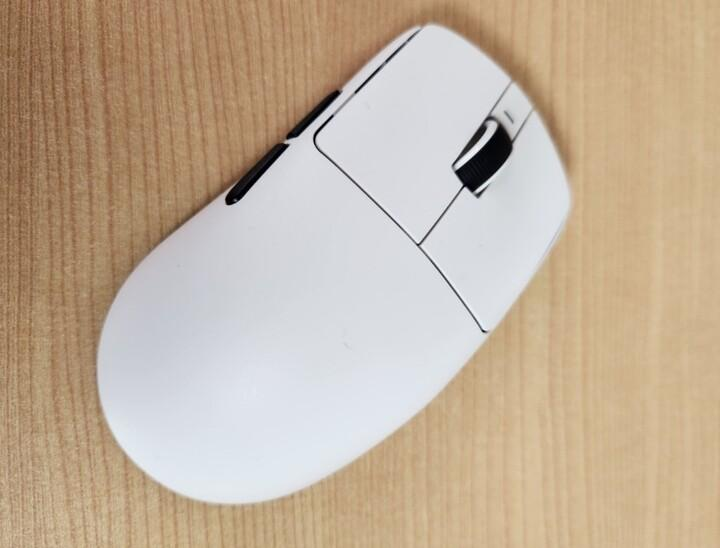mouse: (94, 21, 572, 505)
